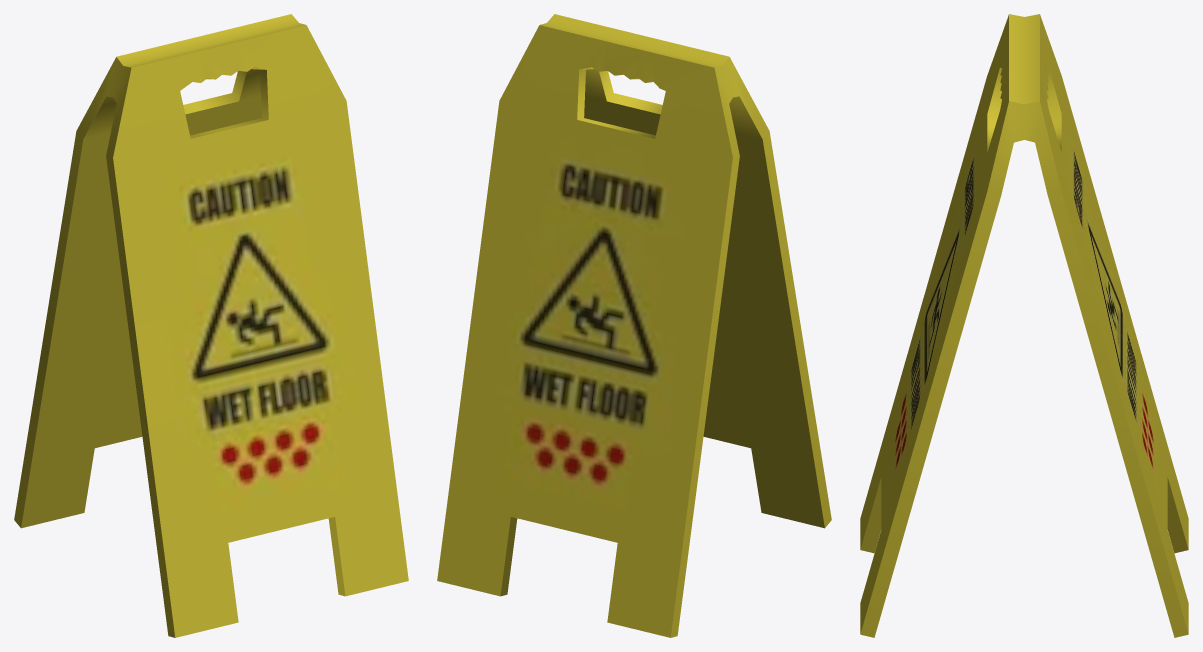
Rendered from sign.glb.
3 views of the same model, side by side, from view 1: azimuth 30°, elevation 25°; view 2: azimuth 150°, elevation 25°; view 3: azimuth 270°, elevation 25° (orthographic).
Visible parts, largest first — view 1: WetFloorSign_01; view 2: WetFloorSign_01; view 3: WetFloorSign_01.
Part boxes in pixels (x1=…): WetFloorSign_01: x1=14, y1=14, x2=408, y2=637; WetFloorSign_01: x1=437, y1=14, x2=831, y2=637; WetFloorSign_01: x1=860, y1=14, x2=1188, y2=637.
Bounding box in the file's own units: 0.3 × 0.6295 × 0.3585.
Materials: 1 (1 with a texture image).
